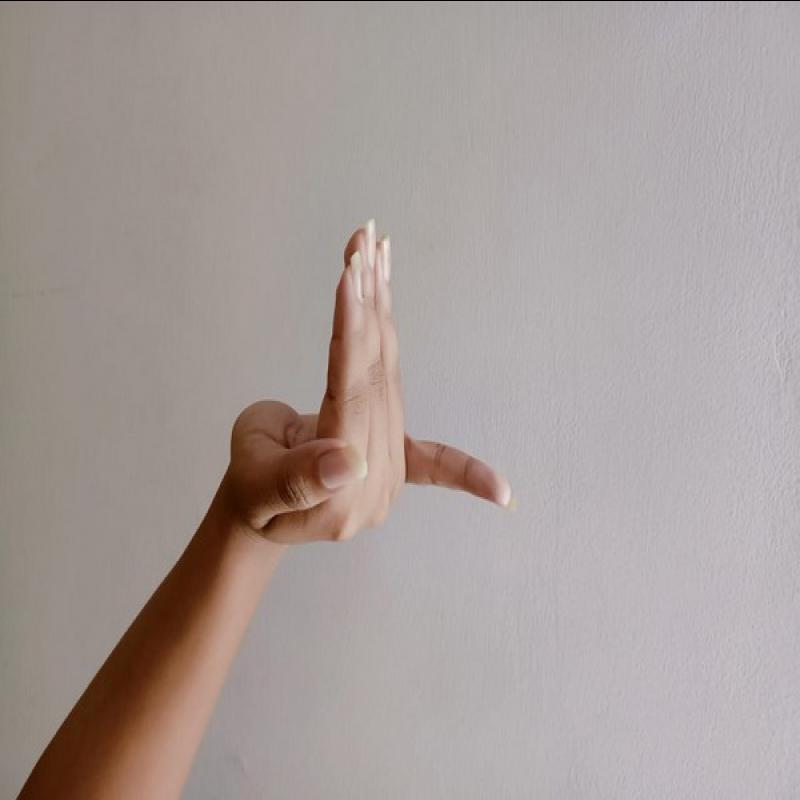Kartharee Mukham: (207, 199, 524, 568)
